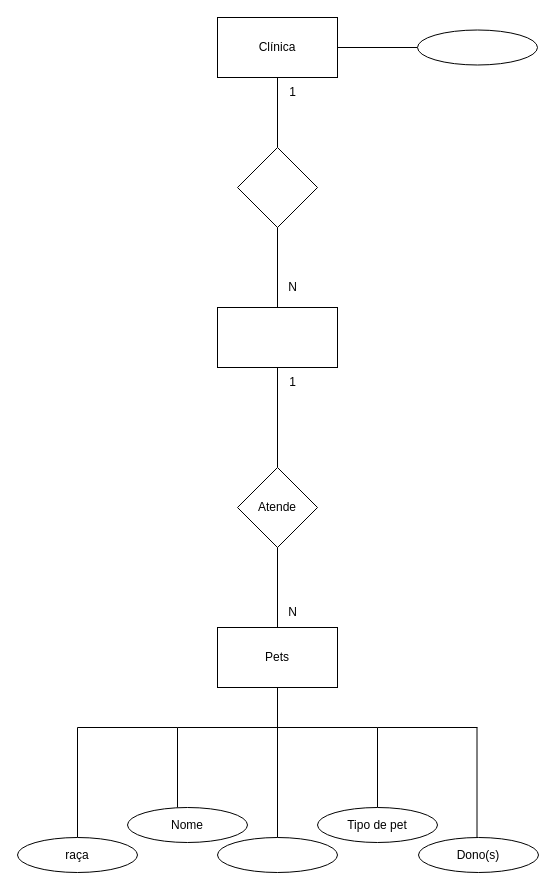
Image size: 556x890. Some labels were removed from this diagram. Here are the shapes that lost their labels. From the top down, the box of each, then its label:
(416, 29, 538, 65): Endereço
(236, 146, 318, 228): Cadastra
(216, 306, 338, 368): Veterinário
(216, 836, 338, 872): Data de nascimento
